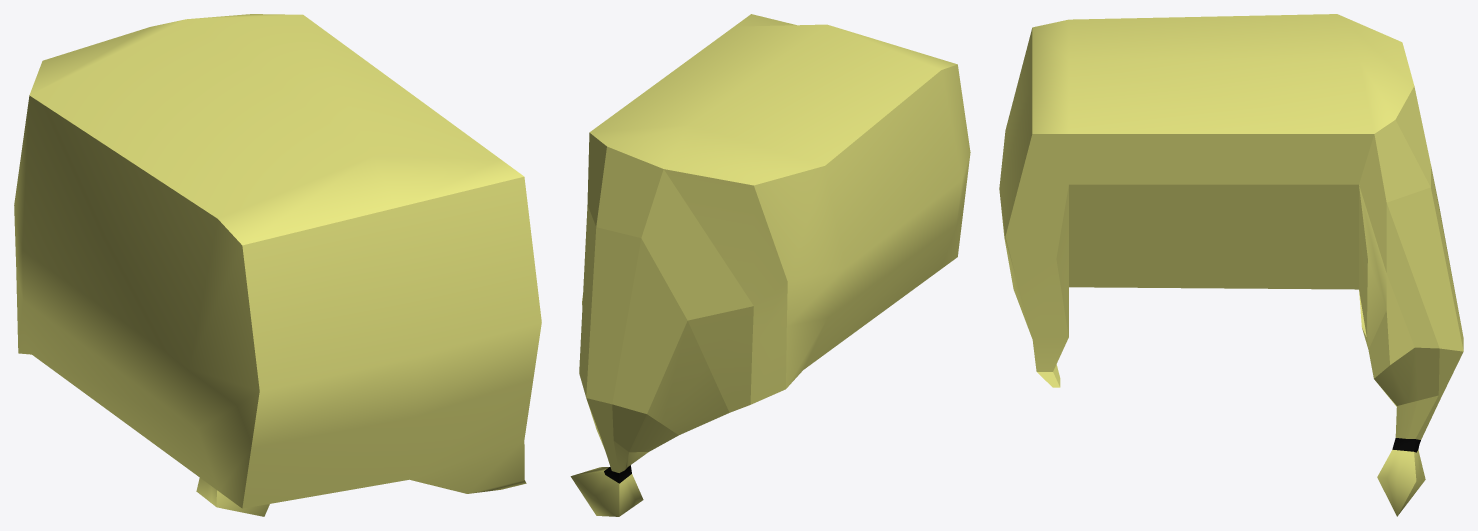
Rendered from SteveWig_v5.fbx.
3 views of the same model, side by side, from view 1: azimuth 30°, elevation 25°; view 2: azimuth 150°, elevation 25°; view 3: azimuth 270°, elevation 25° (orthographic). The views are drawn at different scales.
Parts seen in each view (by area): view 1: pCube6; view 2: pCube6; view 3: pCube6.
Boxes of the visible parts, x1,y1,x2,y2 form: pCube6: (14, 14, 541, 516); pCube6: (570, 14, 970, 516); pCube6: (999, 14, 1463, 516).
Bounding box in the file's own units: 0.8904 × 1.39 × 1.4.
